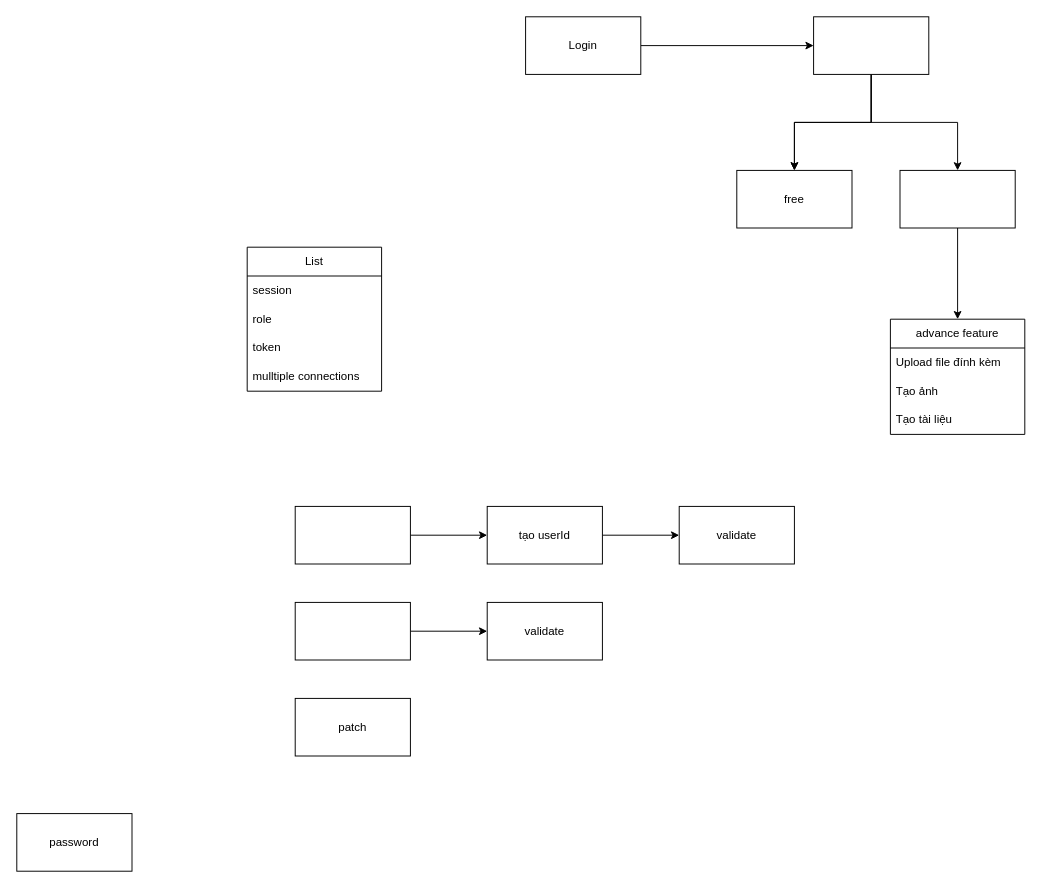
This 1042x888 diagram has some shape labels left out. Here are the shapes that lost their labels. From the top down, the centre of each, then its label:
At point 871,45: "plan".
At point 957,198: "plus".
At point 352,534: "thêm mới".
At point 352,630: "put".
